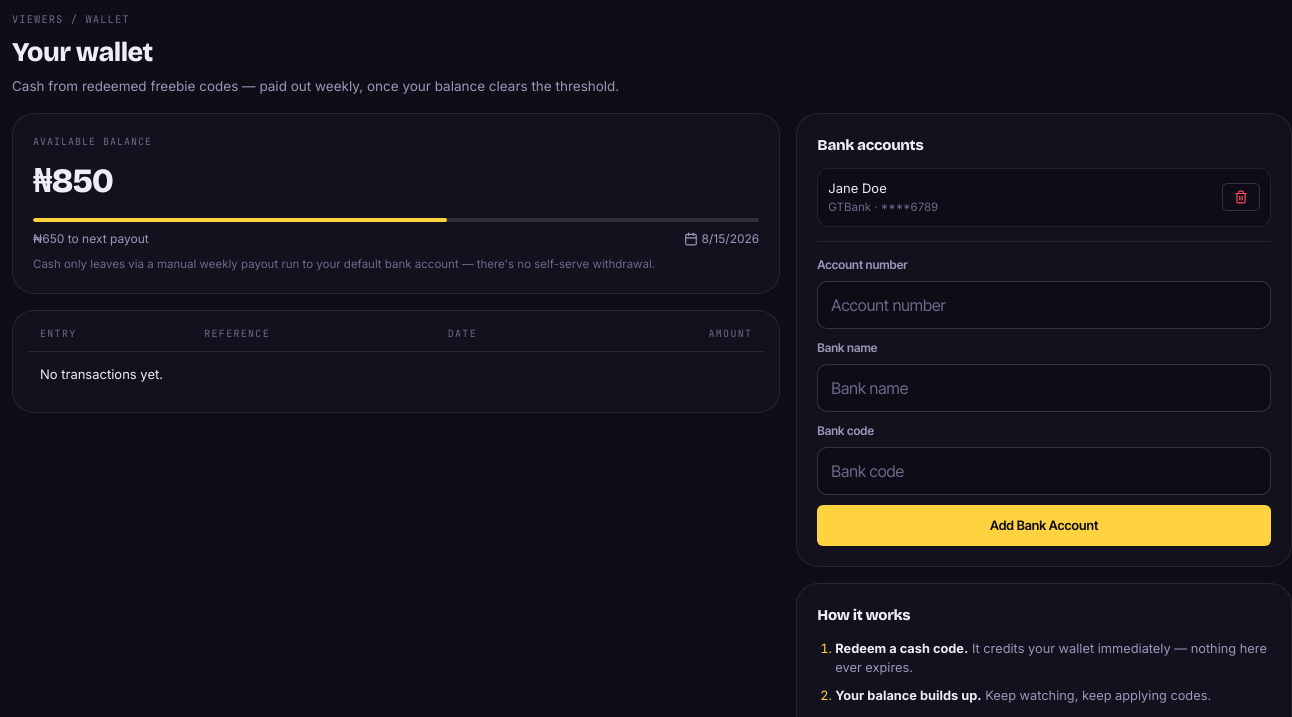
WalletPage › shows the resolved account name after adding a bank account
expect the text "₦850" is shown: met, box [33,160,113,200]
In the field with placeholder "Account number": (1044, 305) [817,281,1271,329], type "9988776655"
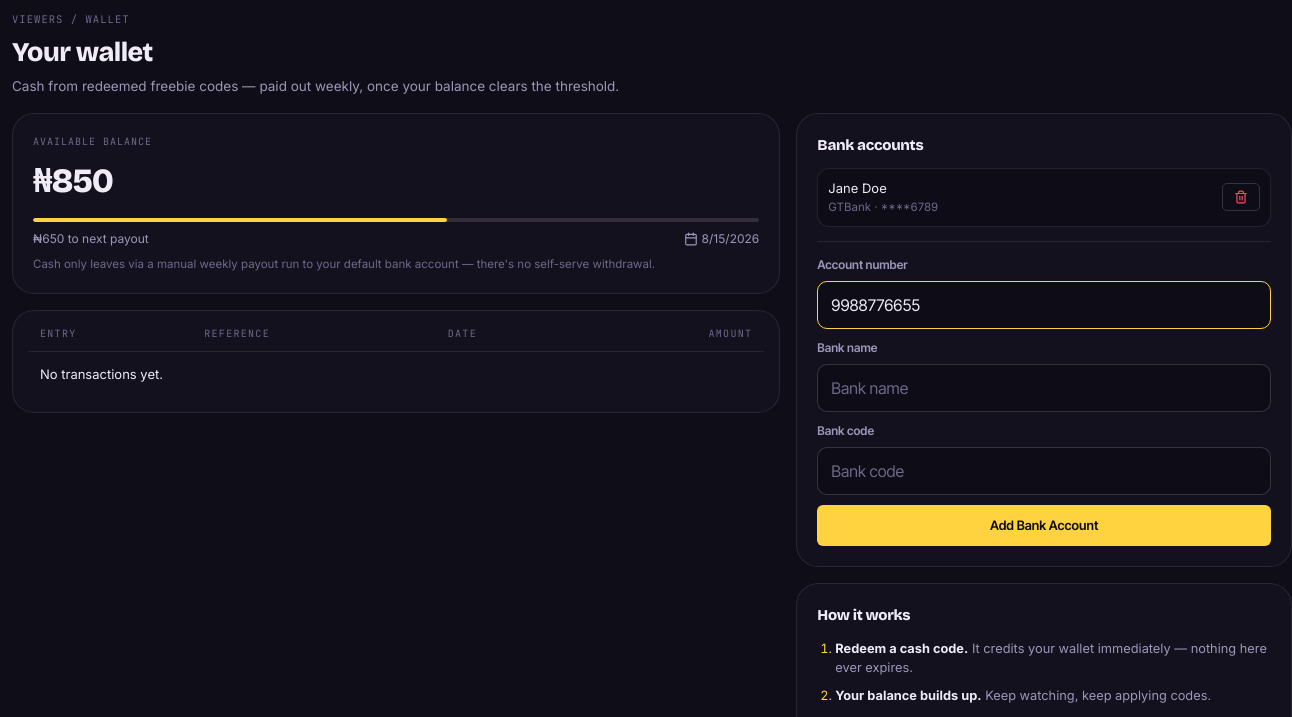
In the field with placeholder "Bank name": (1044, 388) [817,364,1271,412], type "Zenith Bank"
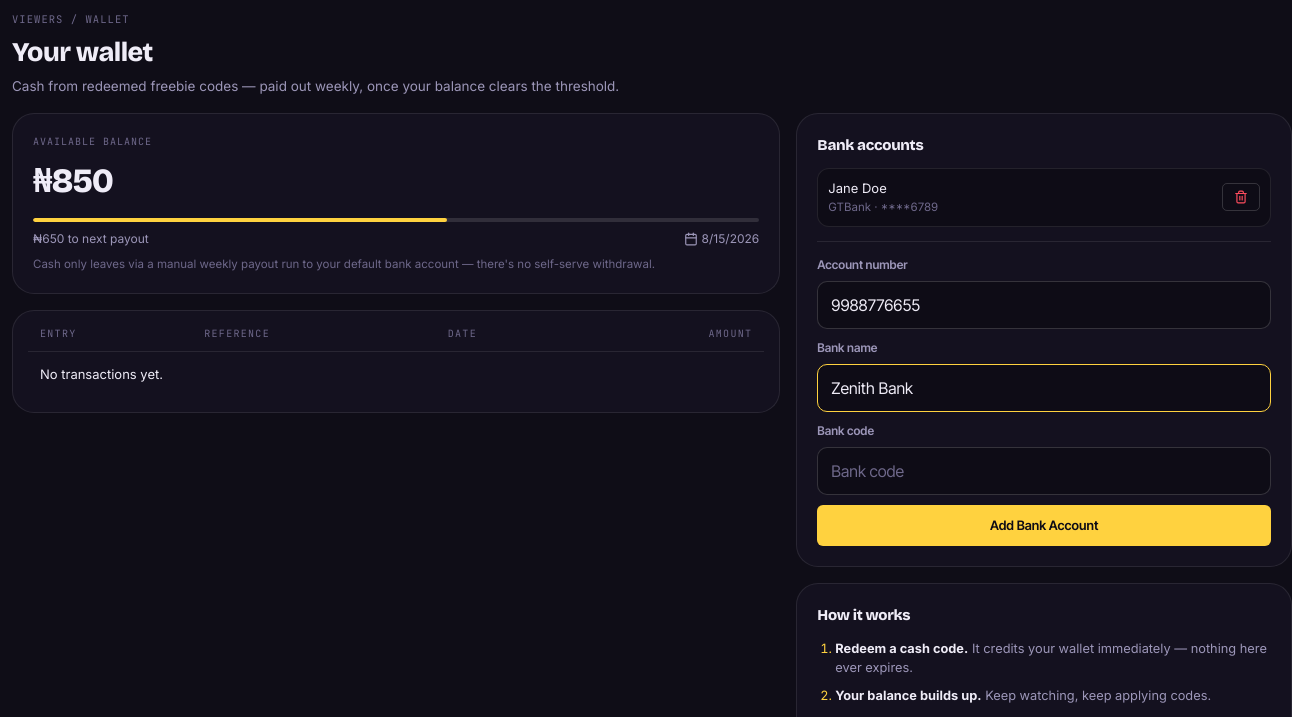
In the field with placeholder "Bank code": (1044, 471) [817,447,1271,495], type "057"
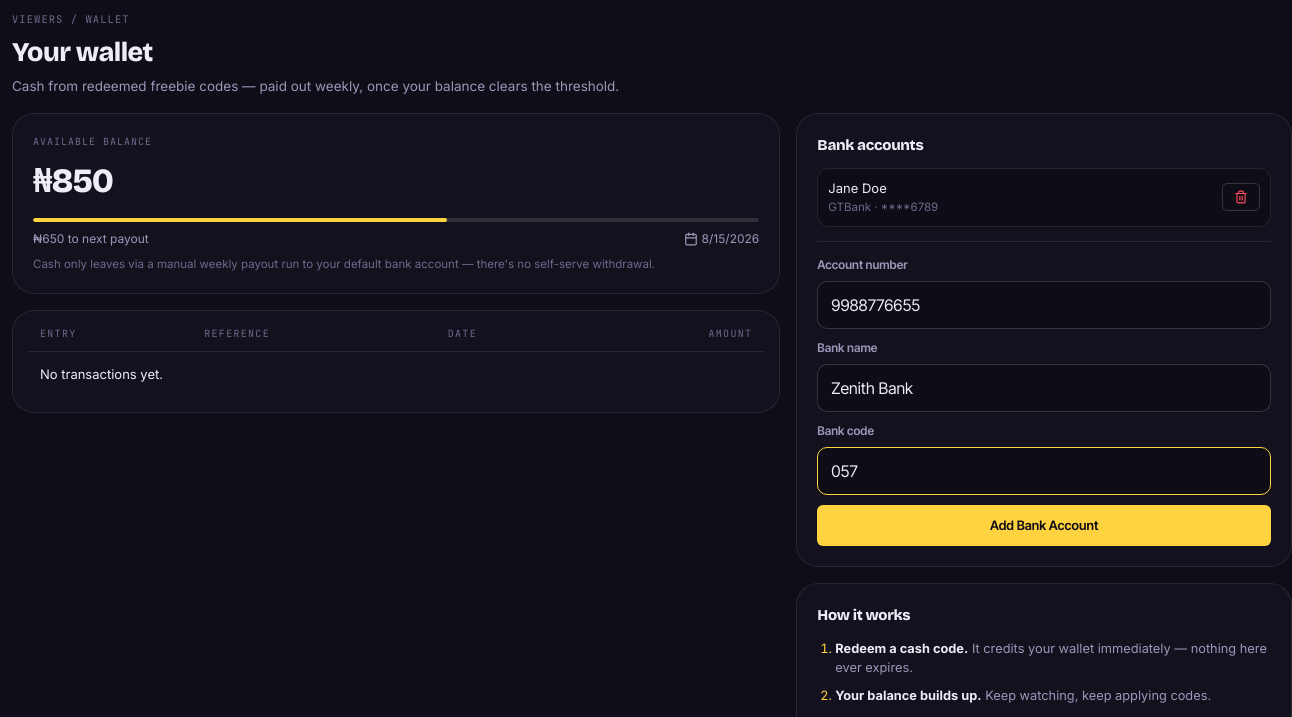
Click the button "Add Bank Account": (1044, 526) [817,505,1271,546]
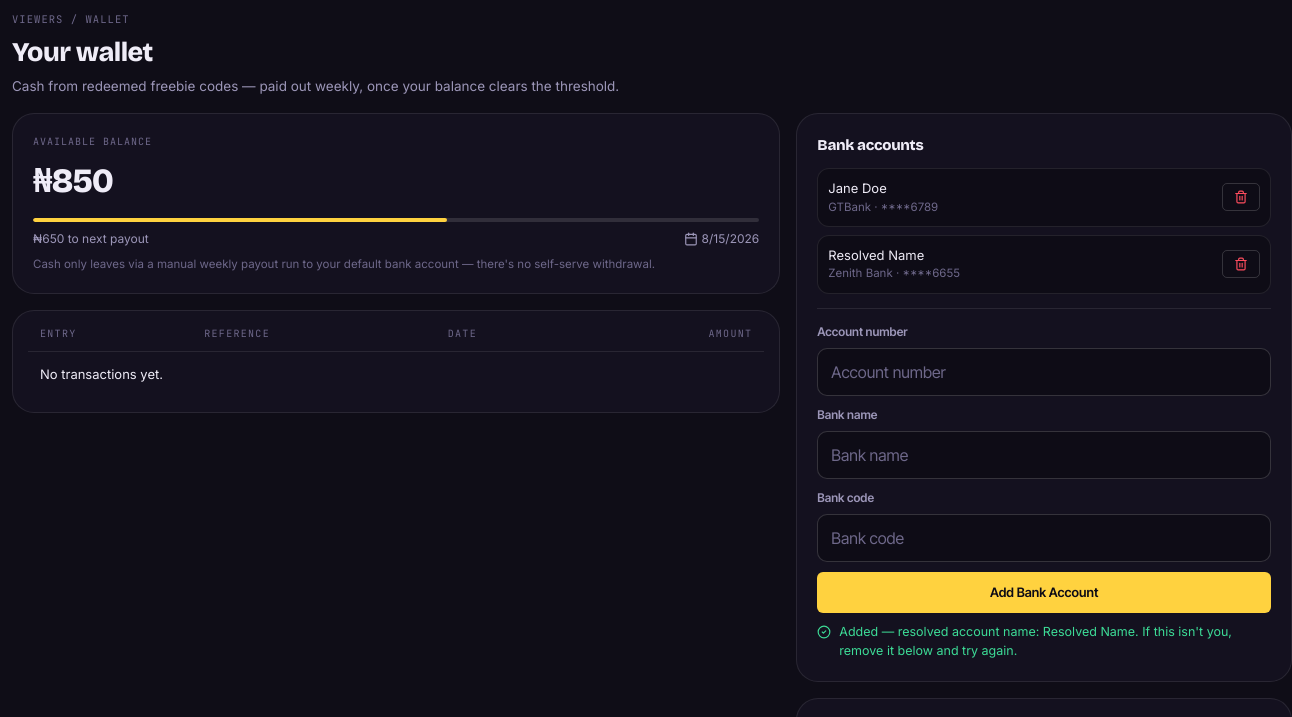
expect the text "resolved account name: Resolved Name" is shown: met, box [839,624,1232,658]
